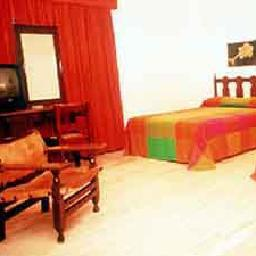Cama: (121, 92, 253, 159)
